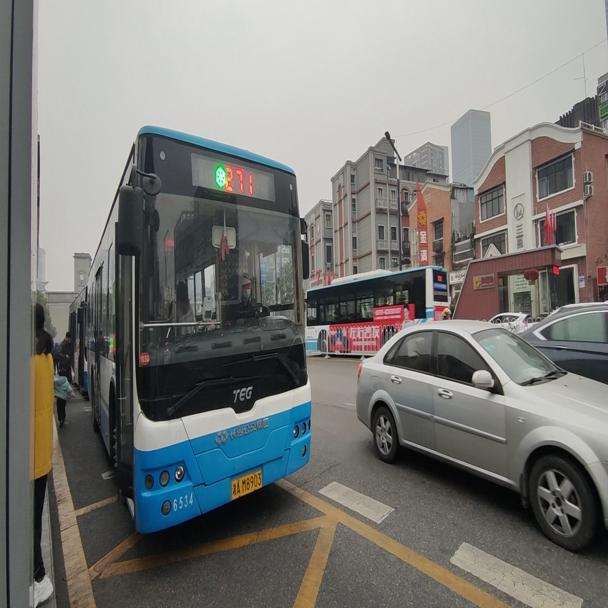bus: (81, 122, 312, 540), (304, 269, 441, 351)
screen: (224, 154, 256, 193)
